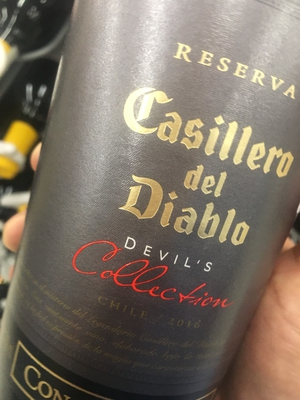casillero del diablo devils collection rojo: (31, 5, 300, 390)
